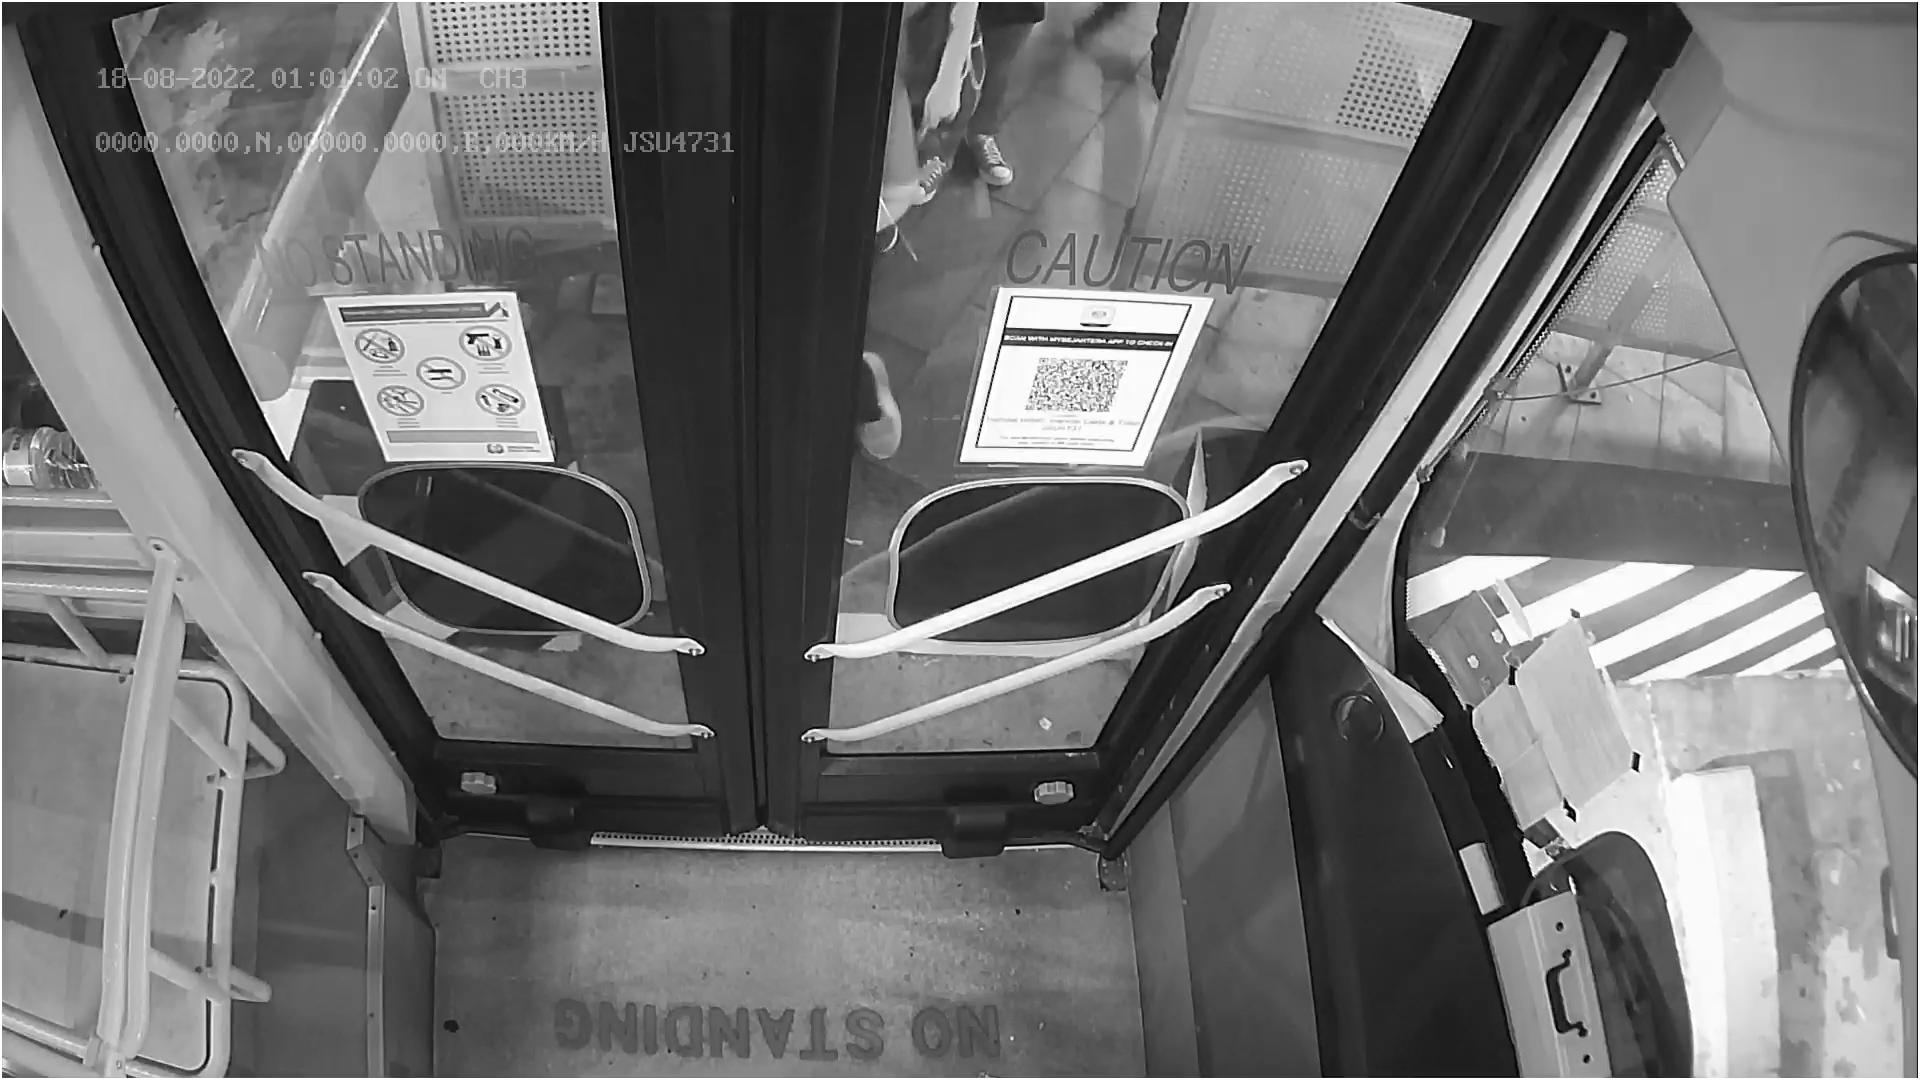close: (125, 0, 1455, 160)
